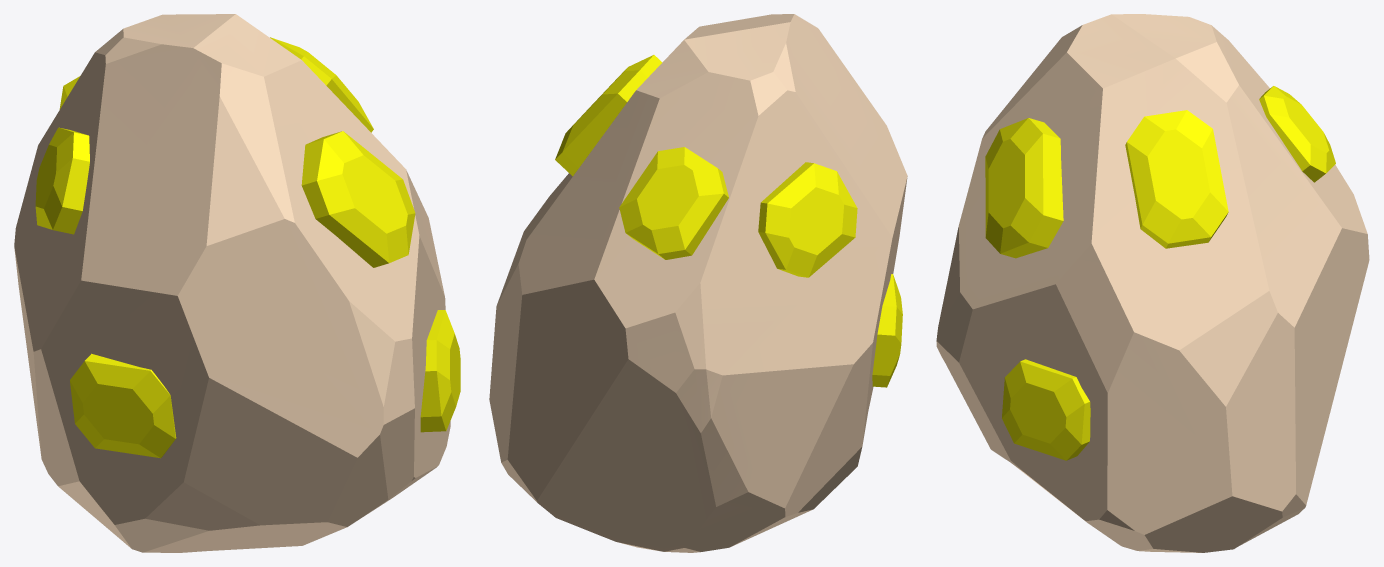
File: MineralNode_09_B.fbx
3 renders of one model, left to right at view 1: azimuth 30°, elevation 25°; view 2: azimuth 150°, elevation 25°; view 3: azimuth 270°, elevation 25°, orthographic. The views are drawn at different scales.
Visible parts, largest first — view 1: MineralNode_09_B; view 2: MineralNode_09_B; view 3: MineralNode_09_B.
Boxes of the visible parts, left/top/right/bottom form: MineralNode_09_B: left=14, top=14, right=460, bottom=552; MineralNode_09_B: left=489, top=14, right=907, bottom=552; MineralNode_09_B: left=936, top=14, right=1369, bottom=552.
Bounding box in the file's own units: 67.17 × 90.02 × 75.6.
